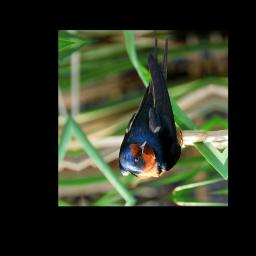Swallow: (98, 36, 191, 183)
